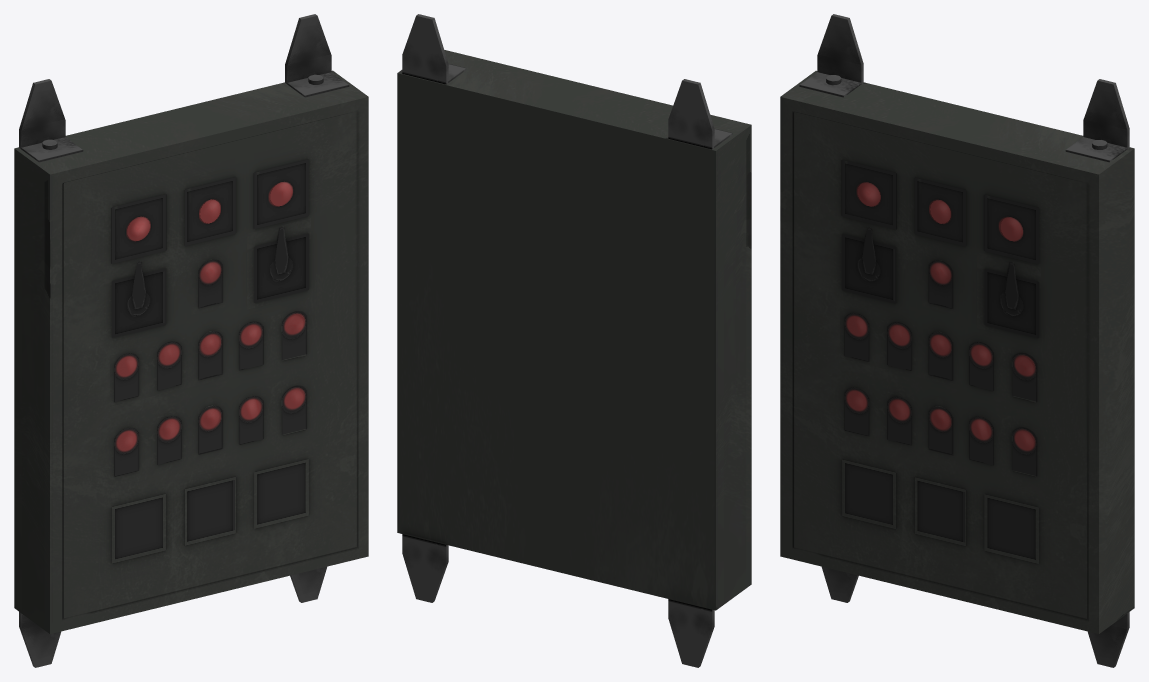
Rendered from Lamp2.FBX.
The picture shows the model from 3 angles, left to right: view 1: azimuth 30°, elevation 25°; view 2: azimuth 150°, elevation 25°; view 3: azimuth 330°, elevation 25°; orthographic projection.
Visible parts, largest first — view 1: 003; view 2: 003; view 3: 003.
Boxes of the visible parts, x1,y1,x2,y2 form: 003: (14,14,368,667); 003: (397,14,751,667); 003: (780,14,1134,667).
Bounding box in the file's own units: 94.03 × 164 × 18.29.
